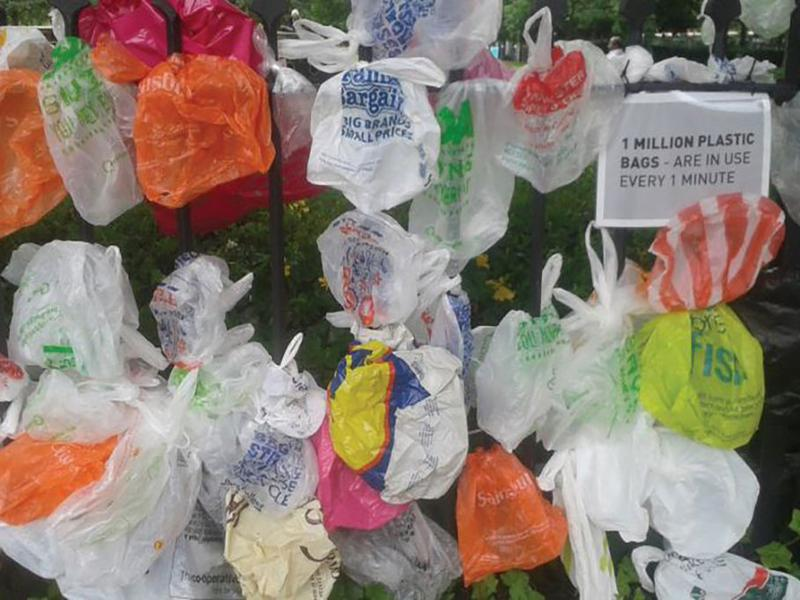plastic: (292, 51, 460, 209), (578, 420, 768, 557), (30, 9, 147, 228), (490, 7, 627, 193), (2, 229, 169, 376), (127, 48, 278, 209), (203, 333, 330, 513), (469, 250, 585, 447), (306, 210, 461, 354), (633, 303, 767, 450), (443, 442, 577, 589), (631, 193, 792, 314), (149, 251, 277, 372), (217, 486, 352, 600), (3, 430, 122, 524)
